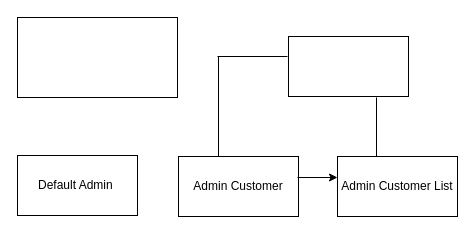
This 475x234 diagram has some shape labels left out. The shapes that lost their labels are listed below. From the top down, each one's centre as x and y in pixels, then its label:
At point 97,57: "DB SQLITE".
At point 348,66: "About Admin".
